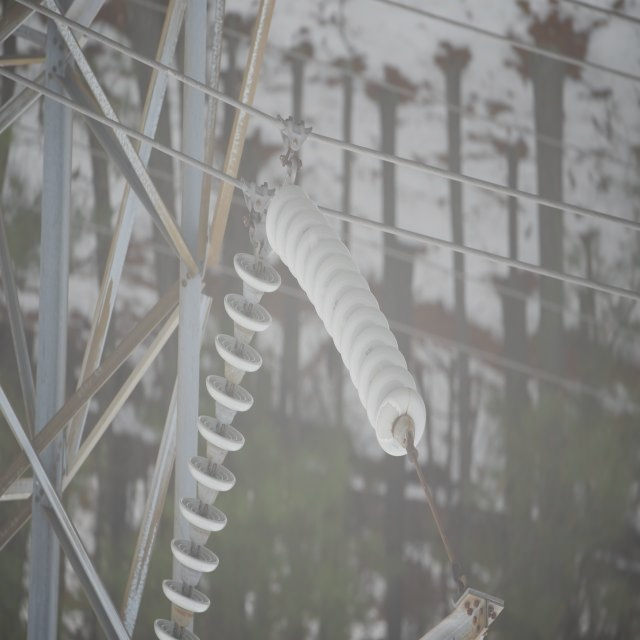insulator: (152, 250, 280, 638), (266, 184, 428, 454)
